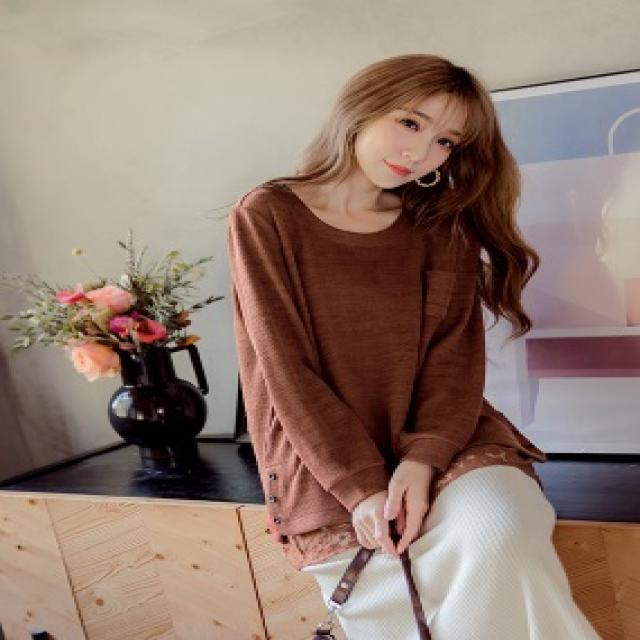plain: (215, 179, 526, 481)
